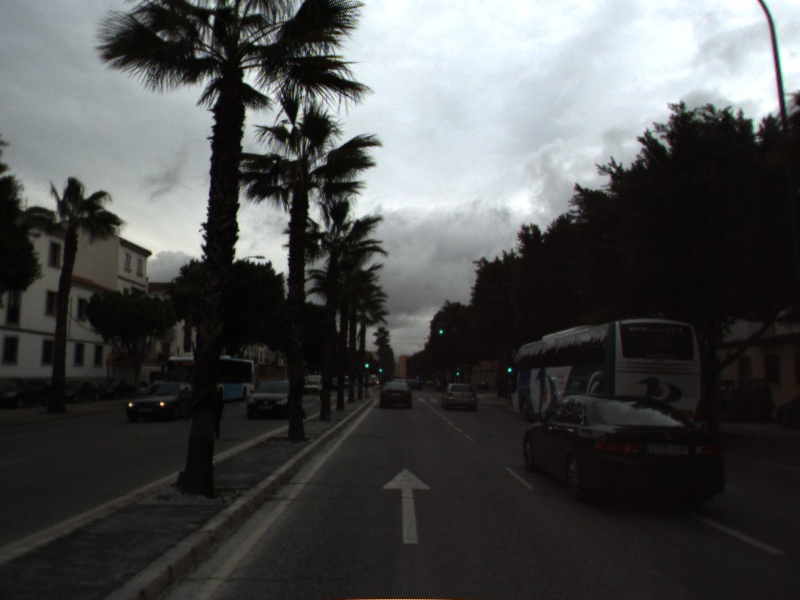STRAIGHT: (379, 464, 436, 547)
